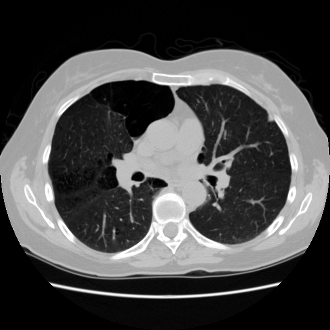nodule: (267, 116, 273, 122)
